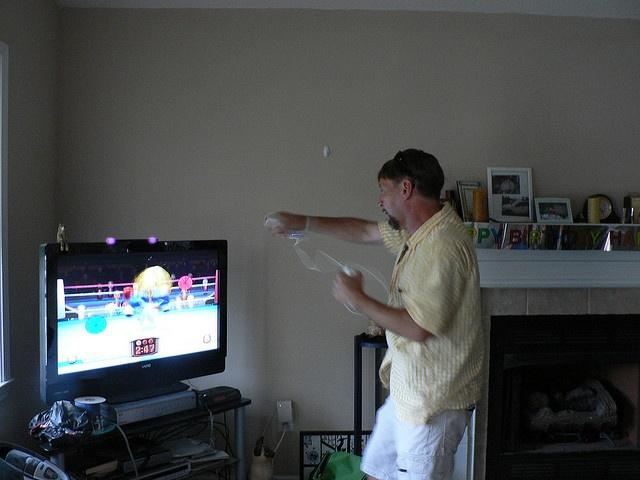AIO PC-Monitor-TV: (37, 236, 229, 405)
